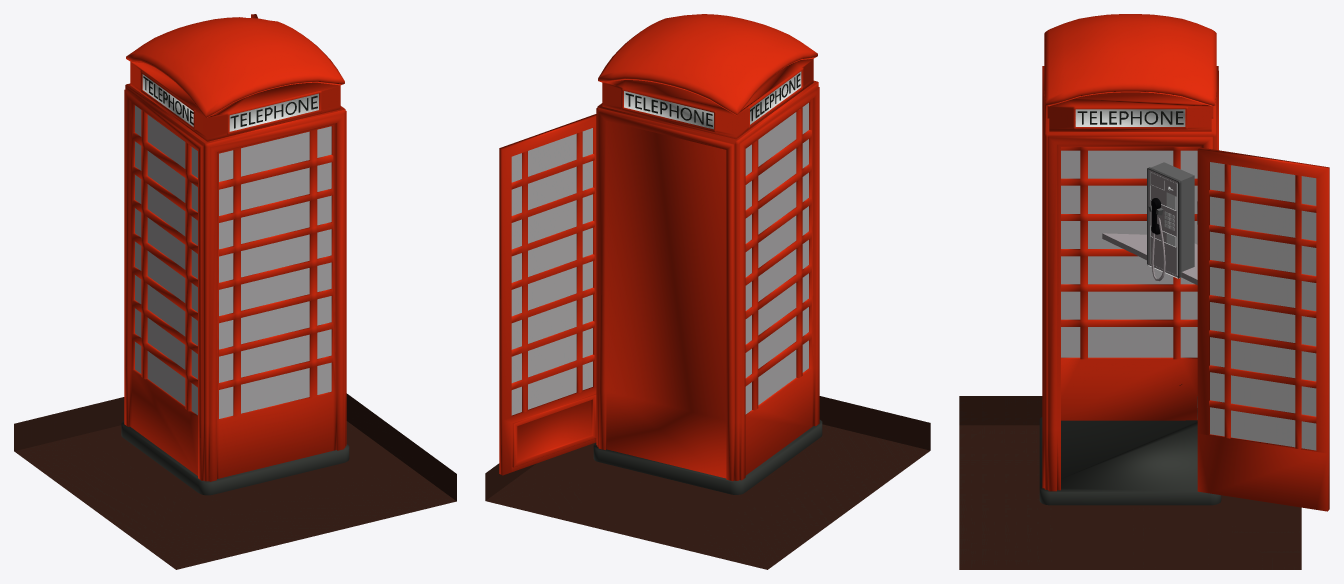
The model's file is Payphone.glb.
3 renders of one model, left to right at view 1: azimuth 30°, elevation 25°; view 2: azimuth 150°, elevation 25°; view 3: azimuth 270°, elevation 25°, orthographic. The views are drawn at different scales.
Parts seen in each view (by area): view 1: PayPhoneBooth, Plane, PayPhone; view 2: PayPhoneBooth, Plane, PayPhone; view 3: PayPhoneBooth, Plane, PayPhone.
Part boxes in pixels (x1=…): PayPhoneBooth: x1=124, y1=14, x2=346, y2=481; Plane: x1=14, y1=393, x2=456, y2=569; PayPhone: x1=121, y1=74, x2=349, y2=495; PayPhoneBooth: x1=499, y1=14, x2=819, y2=481; Plane: x1=485, y1=396, x2=930, y2=569; PayPhone: x1=593, y1=71, x2=822, y2=494; PayPhoneBooth: x1=1042, y1=14, x2=1329, y2=511; Plane: x1=959, y1=396, x2=1301, y2=569; PayPhone: x1=1039, y1=109, x2=1221, y2=505.
Bounding box in the file's own units: 4.22 × 6.35 × 4.56.
2 materials, 2 textured.
